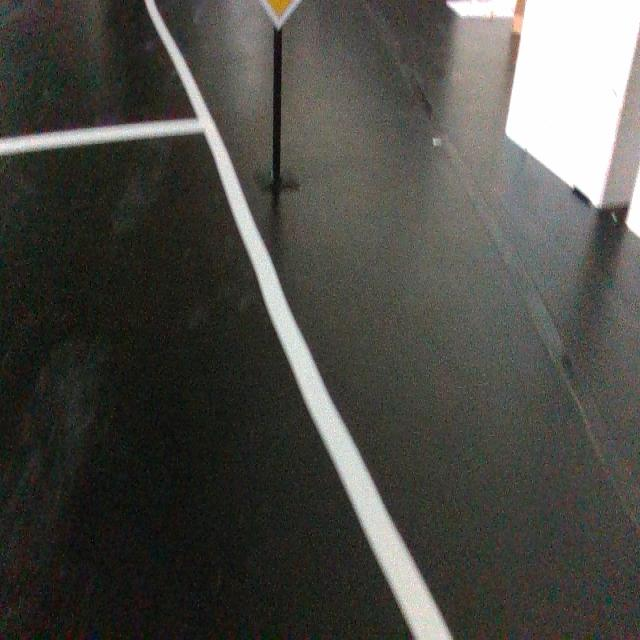priority-sign: (256, 0, 303, 32)
